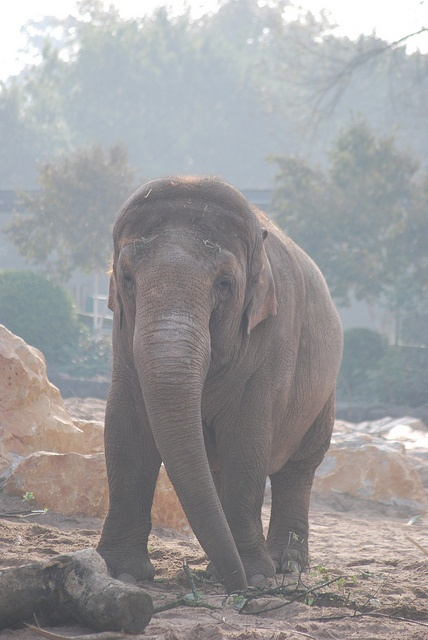elephant: (96, 172, 348, 592)
